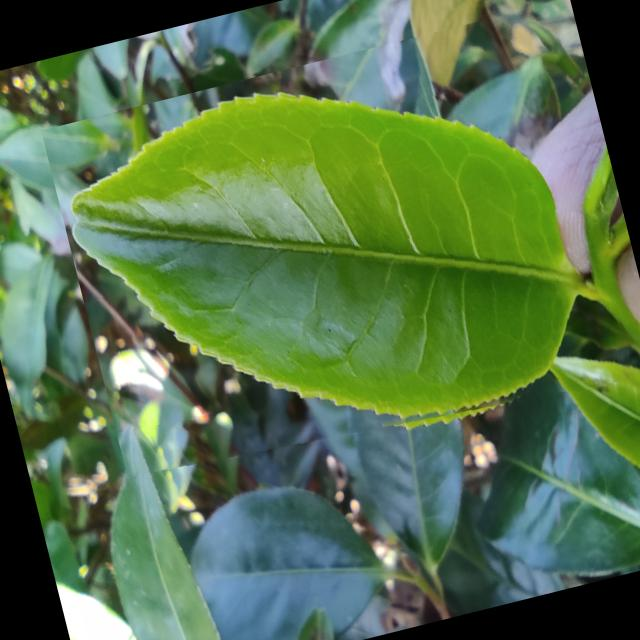Category C(4-7 days): (40, 5, 636, 502)
